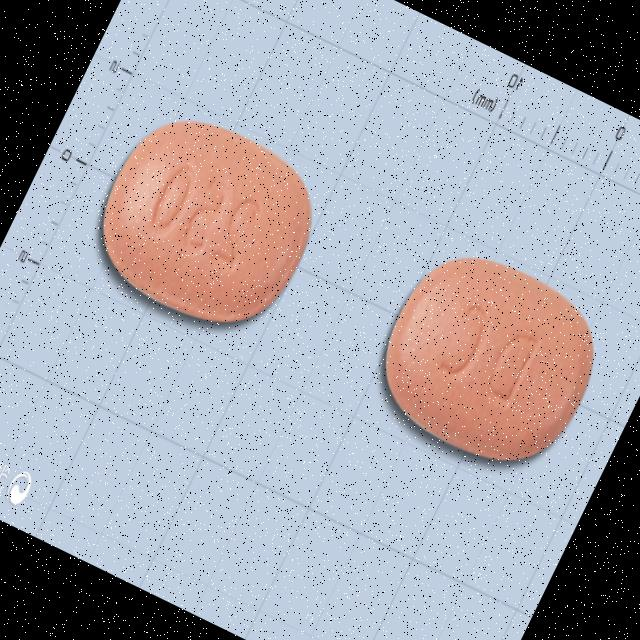Dongkoo Levofloxacin Hydrate Tab-250mg: (354, 230, 622, 490), (73, 91, 339, 352)
